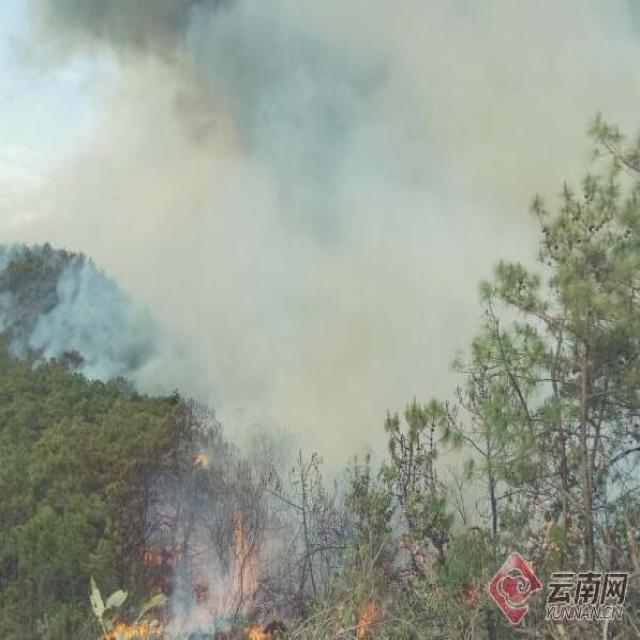fire: (220, 500, 272, 606), (342, 582, 379, 629), (102, 608, 164, 636), (240, 616, 271, 637), (459, 578, 483, 602)
smoke: (101, 108, 474, 388), (396, 17, 619, 189)
